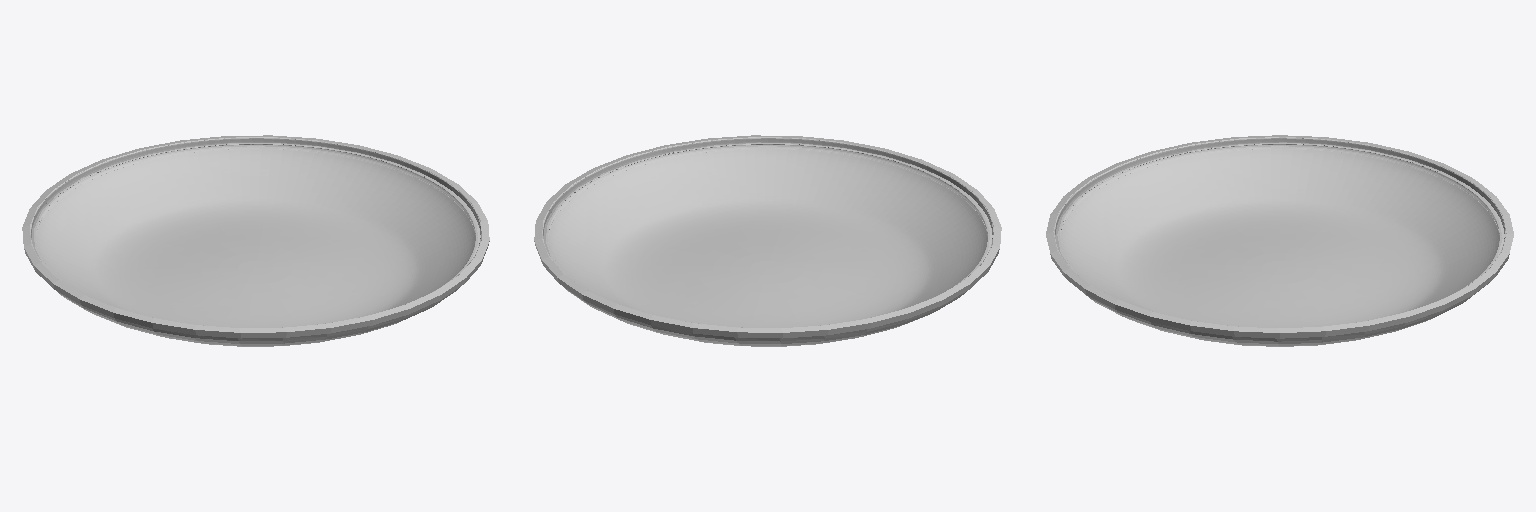
3 views of the same model, side by side, from view 1: azimuth 30°, elevation 25°; view 2: azimuth 150°, elevation 25°; view 3: azimuth 270°, elevation 25° (orthographic).
Visible parts, largest first — view 1: BowlJ3; view 2: BowlJ3; view 3: BowlJ3.
Boxes of the visible parts, x1,y1,x2,y2 form: BowlJ3: [22, 135, 489, 346]; BowlJ3: [534, 135, 1001, 346]; BowlJ3: [1046, 135, 1513, 346].
Size of the model in its own units: 5.31 by 0.5839 by 5.31.